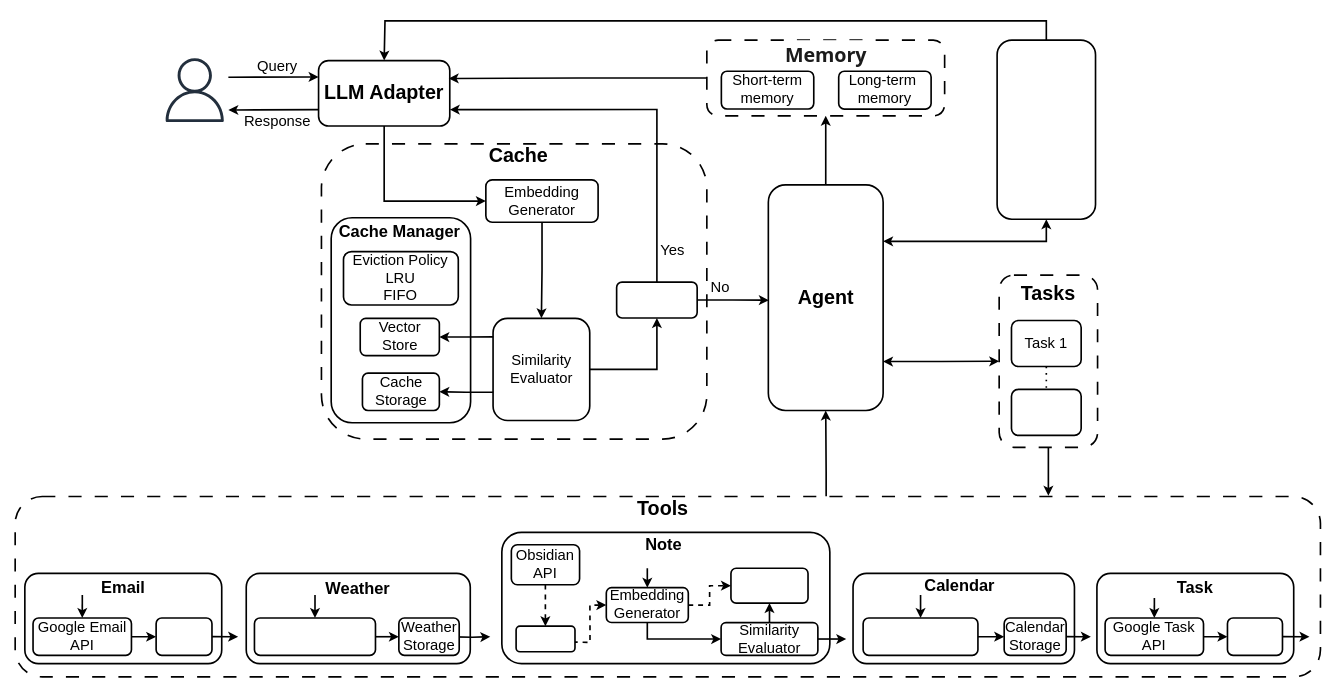
The diagram is 1335 pixels wide and 691 high, and some of its shapes have lost their labels. The box of each missing label's shape, as (x1, y1, x2, y2) in pixels:
Cache hit: (615, 281, 698, 318)
Chunk: (515, 625, 575, 652)
Email Storage: (155, 617, 212, 656)
Google Calendar API: (862, 617, 978, 656)
LLM: (996, 39, 1096, 220)
OpenWeatherMap API: (253, 617, 376, 656)
Task n: (1010, 388, 1082, 436)
Task Storage: (1226, 617, 1283, 656)
Vector db: (730, 567, 808, 604)
